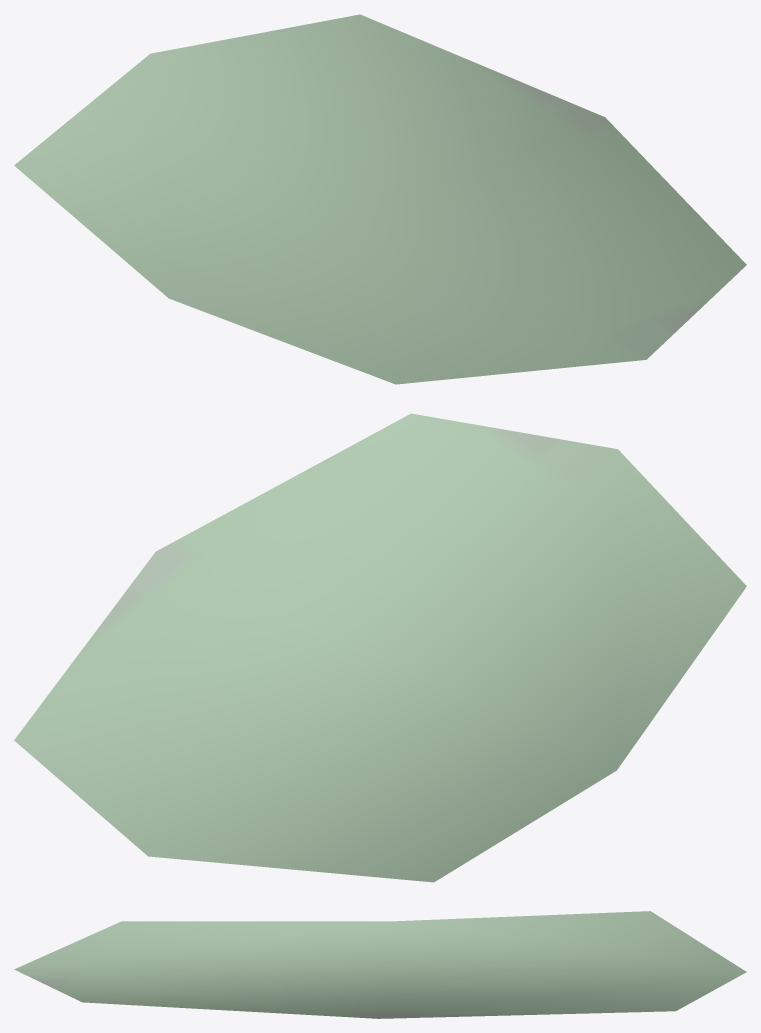
File: TROLLHOLE02_HOLECAP82.fbx
3 views of the same model, one above another, from view 1: azimuth 30°, elevation 25°; view 2: azimuth 150°, elevation 25°; view 3: azimuth 270°, elevation 25° (orthographic). The views are drawn at different scales.
Parts seen in each view (by area): view 1: TROLLHOLE02_HOLECAP82; view 2: TROLLHOLE02_HOLECAP82; view 3: TROLLHOLE02_HOLECAP82.
Boxes of the visible parts, <box> form: TROLLHOLE02_HOLECAP82: <box>14,14,746,384</box>; TROLLHOLE02_HOLECAP82: <box>14,413,746,882</box>; TROLLHOLE02_HOLECAP82: <box>14,911,746,1018</box>.
Size of the model in its own units: 9705 by 1858 by 18146.
Materials: 1 (1 with a texture image).
